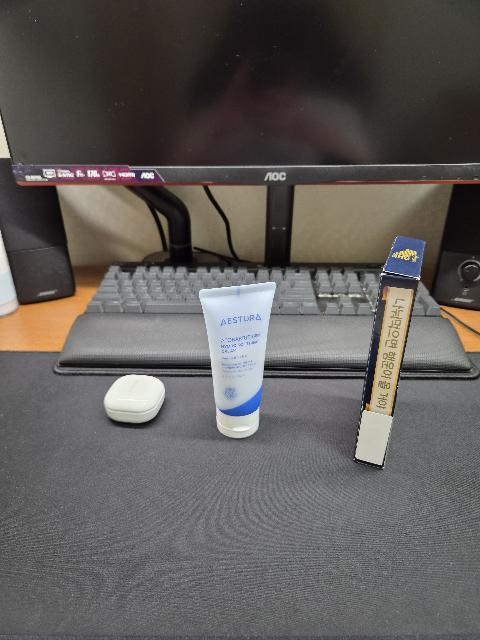earphone_case: (104, 374, 165, 423)
handcream: (199, 282, 276, 438)
pepero: (353, 236, 426, 469)
